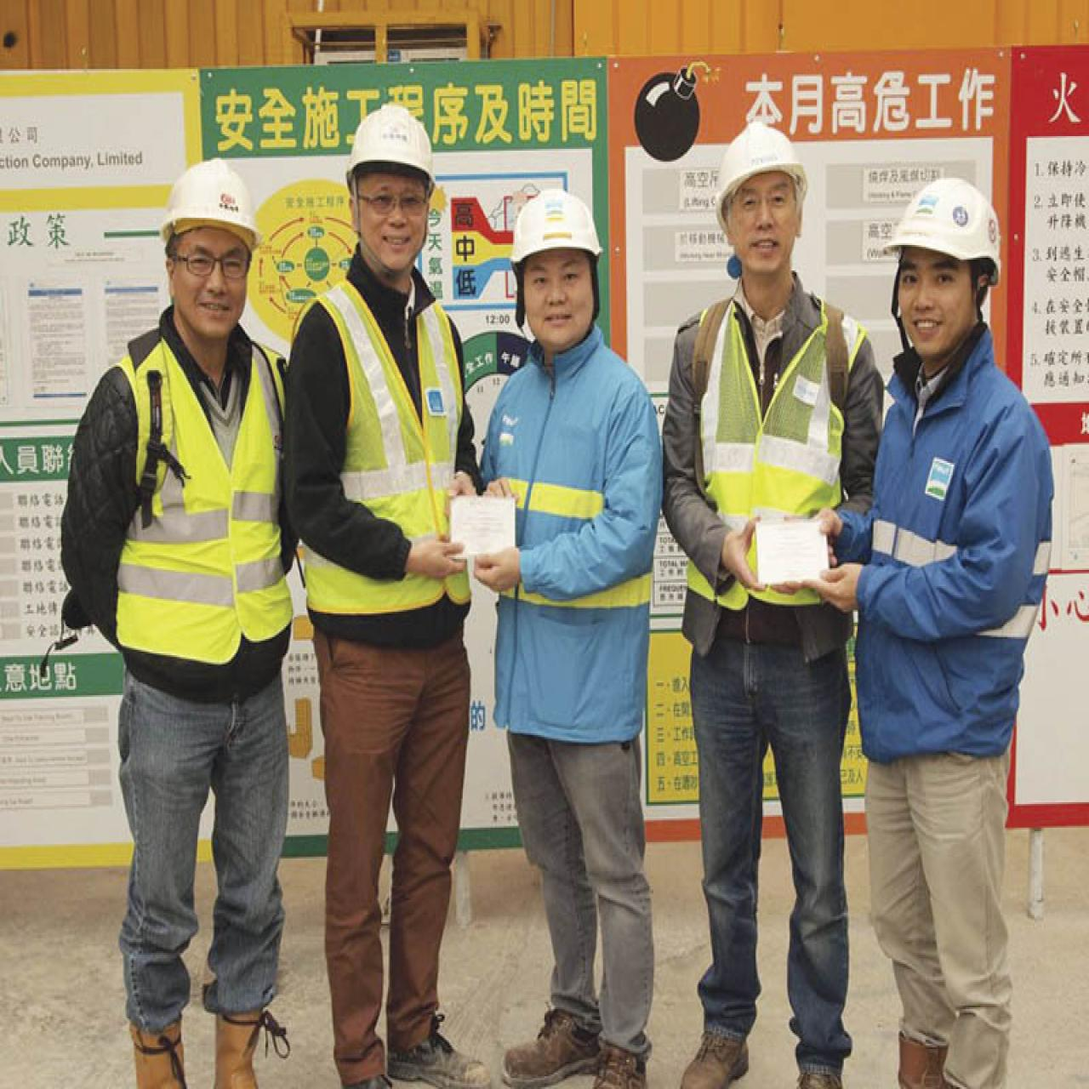NO_Safety_Vest: (868, 359, 1041, 758), (482, 347, 655, 726)
Person: (49, 138, 334, 1089), (797, 160, 1052, 1068), (661, 123, 885, 1079), (284, 102, 494, 1083), (467, 191, 662, 1079)
Safety_Vest: (88, 325, 302, 695), (672, 289, 875, 624), (294, 275, 470, 627)
